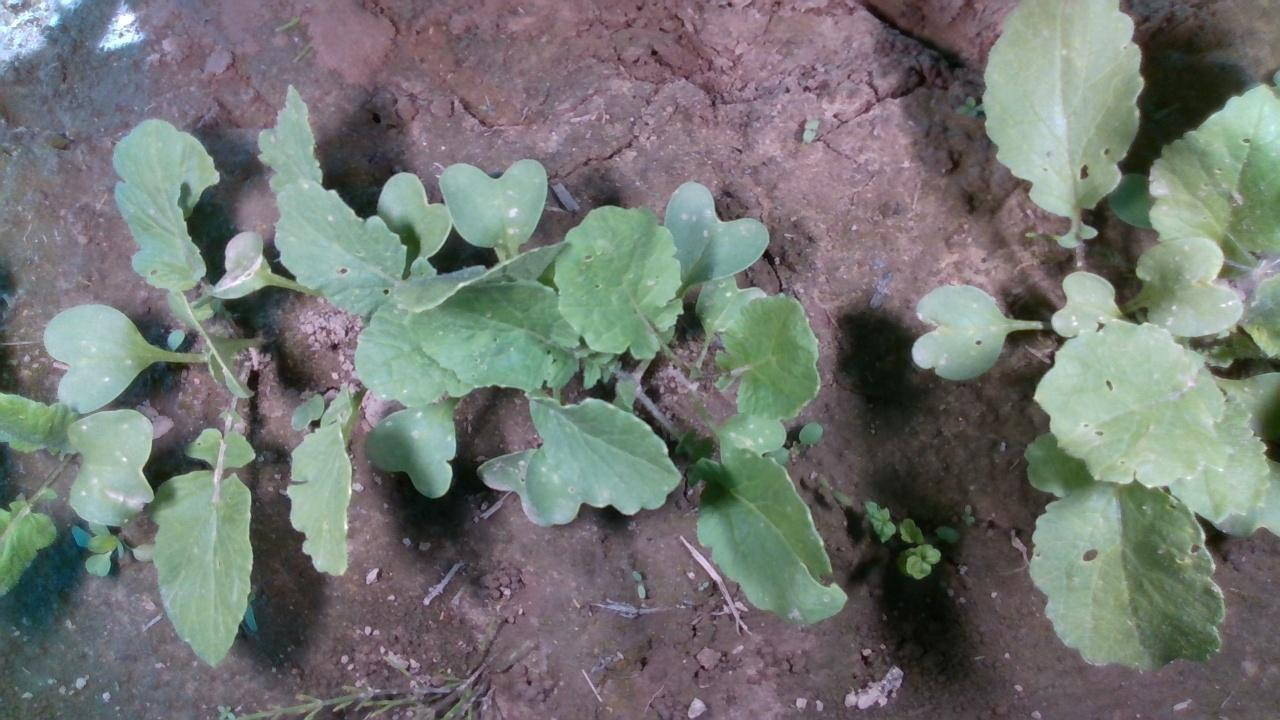weed: (801, 115, 820, 144), (631, 568, 646, 599)
